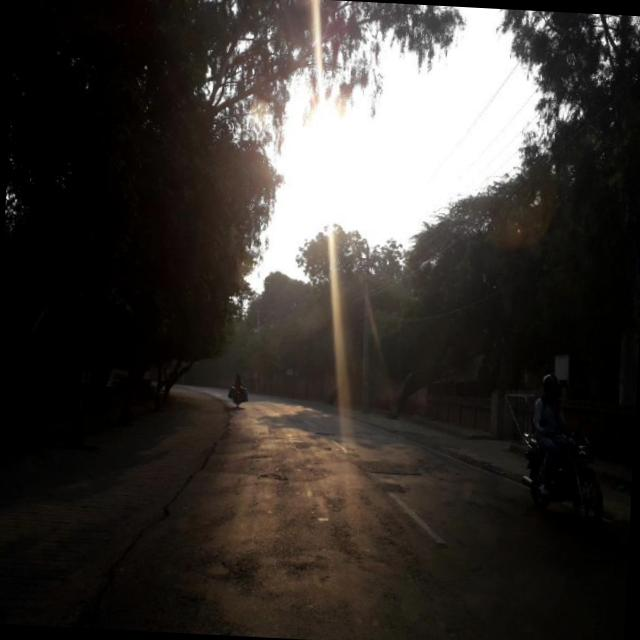crack: (69, 455, 204, 633)
